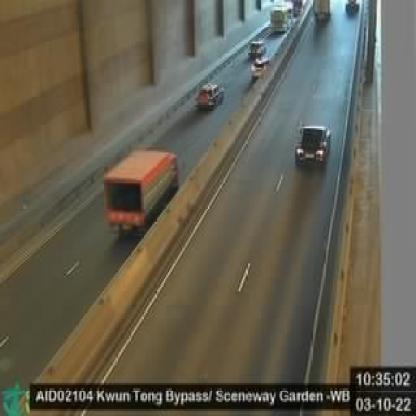Car: (290, 125, 330, 170), (195, 82, 224, 109), (251, 56, 270, 76), (247, 40, 265, 55)
Truck: (104, 147, 178, 241)
